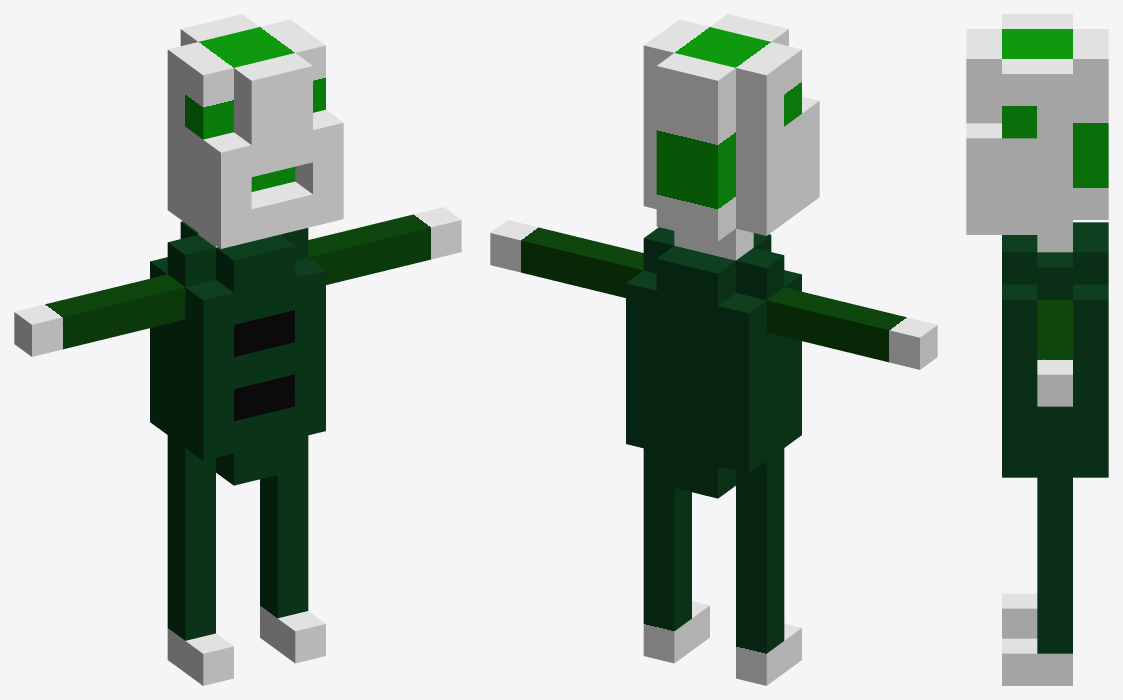
Rendered from Boss.fbx.
3 renders of one model, left to right at view 1: azimuth 30°, elevation 25°; view 2: azimuth 150°, elevation 25°; view 3: azimuth 270°, elevation 25°, orthographic.
Parts seen in each view (by area): view 1: Matrix_part_1, Matrix_part, Matrix_part_5, Matrix_part_3, Matrix_part_4, Matrix_part_2; view 2: Matrix_part_1, Matrix_part, Matrix_part_5, Matrix_part_3, Matrix_part_4, Matrix_part_2; view 3: Matrix_part, Matrix_part_1, Matrix_part_3, Matrix_part_2, Matrix_part_5.
Boxes of the visible parts, x1,y1,x2,y2 form: Matrix_part_1: (150,221,325,485); Matrix_part: (167,14,343,248); Matrix_part_5: (167,467,233,685); Matrix_part_3: (260,450,325,663); Matrix_part_4: (14,274,185,356); Matrix_part_2: (308,207,461,284); Matrix_part_1: (626,227,801,498); Matrix_part: (643,14,819,260); Matrix_part_5: (736,480,801,685); Matrix_part_3: (643,463,709,663); Matrix_part_4: (766,287,937,369); Matrix_part_2: (490,220,643,297); Matrix_part: (966,14,1108,252); Matrix_part_1: (1002,222,1108,492); Matrix_part_3: (1002,492,1072,685); Matrix_part_2: (1037,299,1072,406); Matrix_part_5: (1002,593,1037,638).
Bounding box in the file's own units: 14 × 19 × 4.
Materials: 1 (1 with a texture image).
